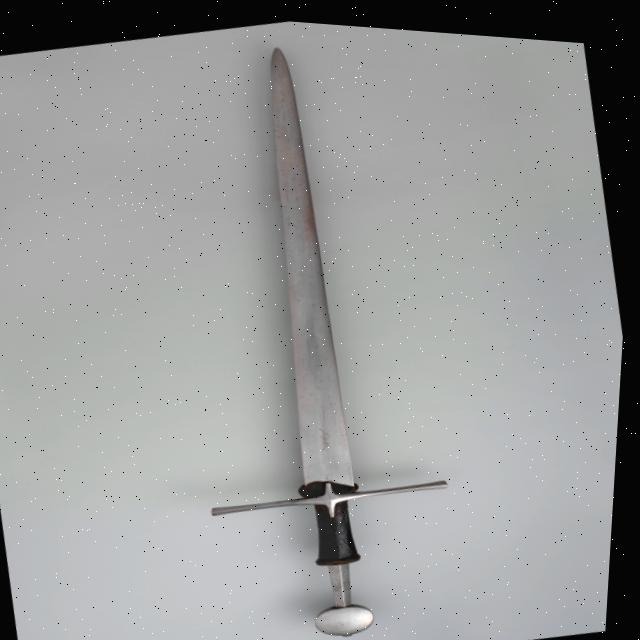knife: (114, 10, 511, 640)
